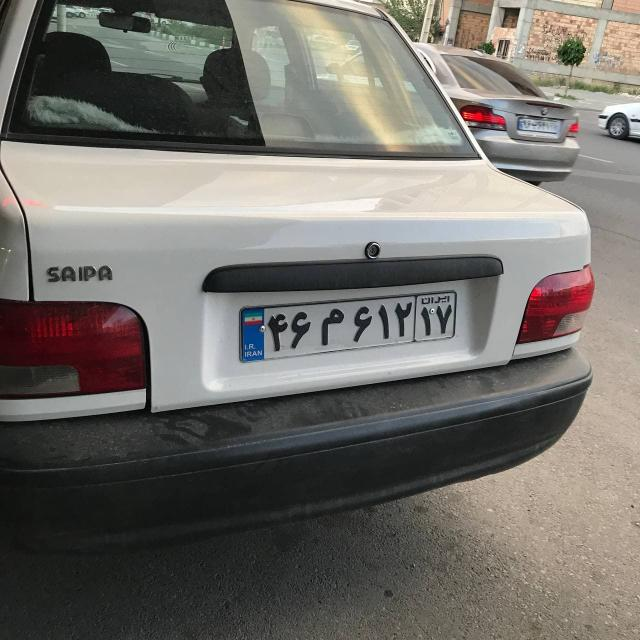Plates: (237, 283, 461, 362)
